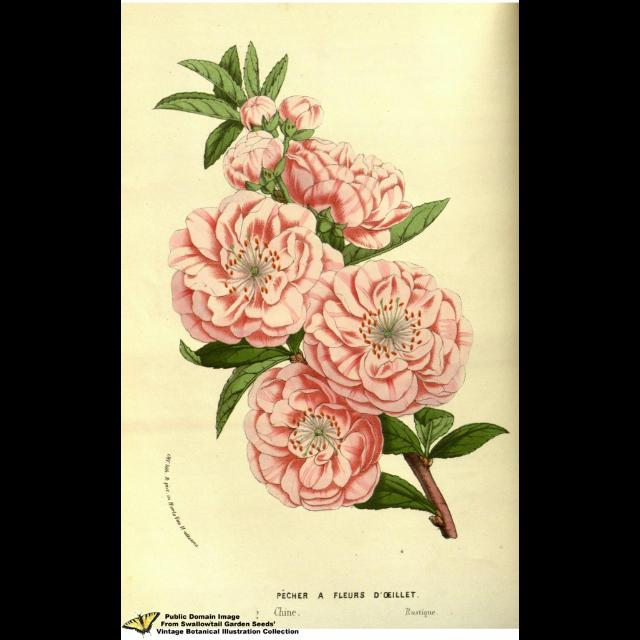Flower: (168, 188, 352, 346), (304, 257, 476, 417), (247, 381, 401, 507), (281, 132, 417, 248), (216, 122, 288, 190)
